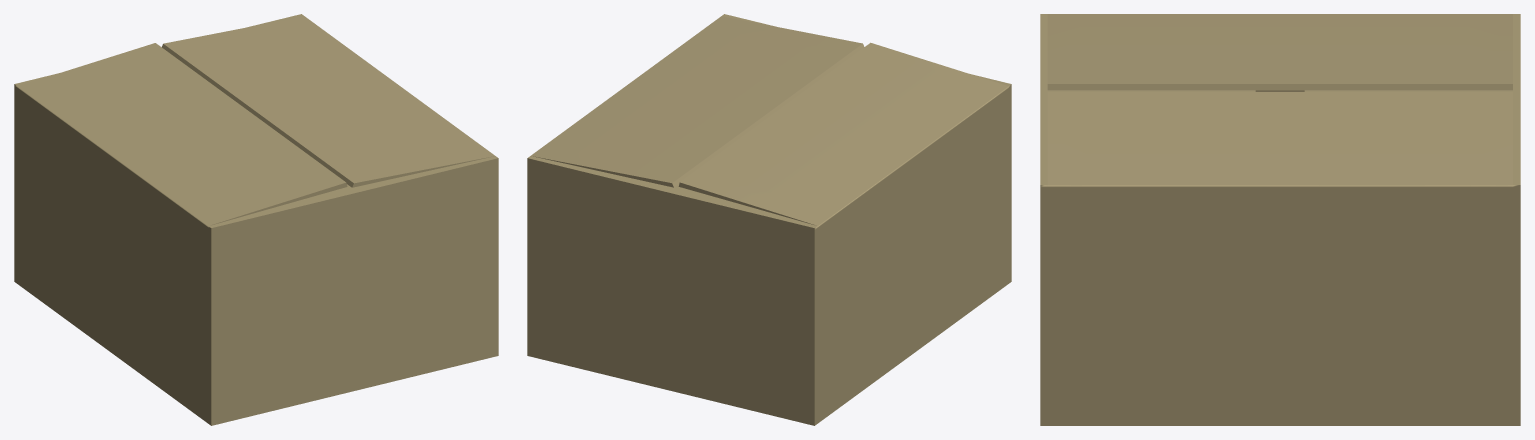
Rendered from PS_CardboardBox1_14_DF.fbx.
The picture shows the model from 3 angles, left to right: view 1: azimuth 30°, elevation 25°; view 2: azimuth 150°, elevation 25°; view 3: azimuth 270°, elevation 25°; orthographic projection. The views are drawn at different scales.
Visible parts, largest first — view 1: CardboardBox1; view 2: CardboardBox1; view 3: CardboardBox1.
Part boxes in pixels (box(x1,y1,x2,y2)): CardboardBox1: box(14, 14, 498, 425); CardboardBox1: box(527, 14, 1011, 425); CardboardBox1: box(1040, 14, 1520, 425).
Size of the model in its own units: 0.3342 by 0.2309 by 0.3969.
